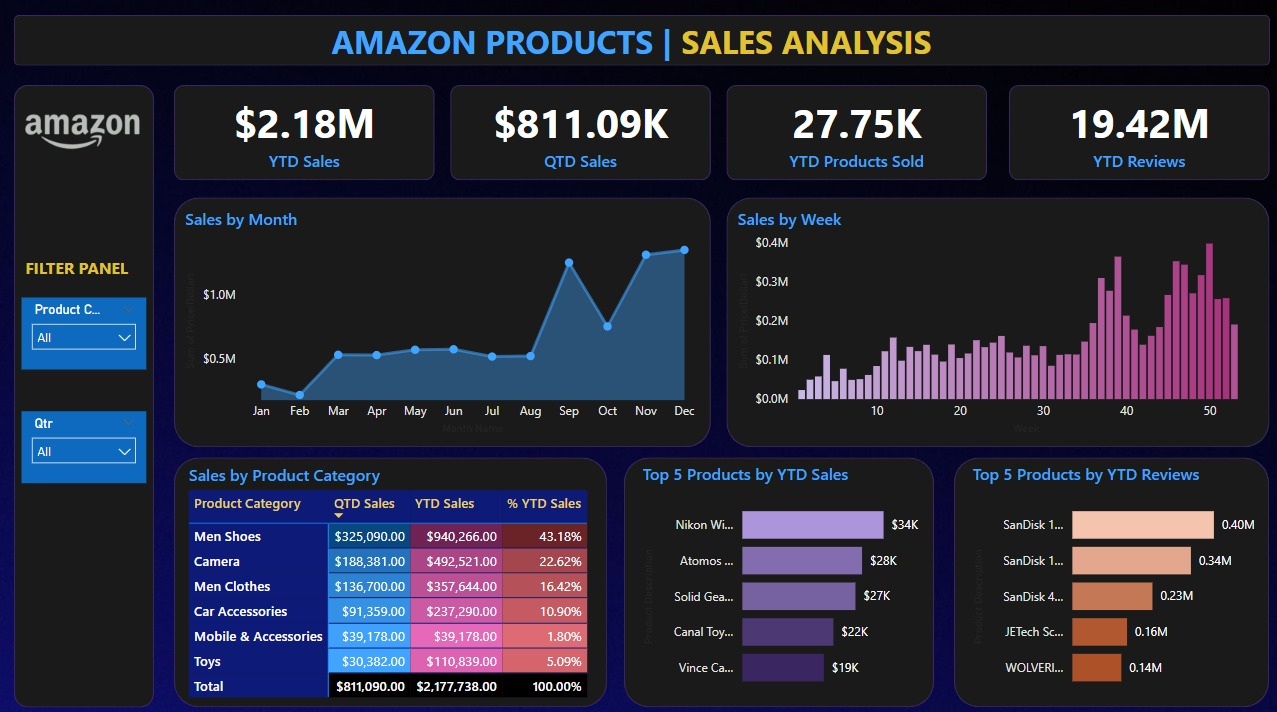

What the dashboard file says about the page in this screenshot:
{"tool":"powerbi","page":{"name":"Page 1","canvas":[1280,720],"ordinal":0},"visuals":[{"type":"shape","box":[14.5,14.5,1255.9,50.7],"z":0},{"type":"shape","box":[174.9,84.5,260.6,95.3],"z":1000},{"type":"textbox","box":[326.9,14.5,624.9,66.4],"z":2000},{"type":"shape","box":[14.5,84.5,139.9,622.5],"z":3000},{"type":"card","fields":{"Values":["Amazon_Data.YTD Sales"]},"box":[181,84.5,248.5,95.3],"z":4000},{"type":"shape","box":[451.2,84.5,260.6,95.3],"z":5000},{"type":"shape","box":[727.5,84.5,260.6,95.3],"z":6000},{"type":"shape","box":[1009.8,84.5,260.6,95.3],"z":7000},{"type":"shape","box":[174.9,197.9,536.9,249.7],"z":8000},{"type":"card","fields":{"Values":["Amazon_Data.QTD Sales"]},"box":[457.2,84.5,248.5,95.3],"z":9000},{"type":"card","fields":{"Values":["Amazon_Data.YTD Products Sold"]},"box":[733.5,84.5,248.5,95.3],"z":10000},{"type":"card","fields":{"Values":["Amazon_Data.YTD Reviews"]},"box":[1015.8,84.5,248.5,95.3],"z":11000},{"type":"areaChart","title":"Sales by Month","fields":{"Category":["Date Table.Month Name"],"Y":["Sum(Amazon_Data.Price(Dollar))"]},"box":[181,207.5,524.8,231.6],"z":12000},{"type":"shape","box":[727.5,197.9,542.9,249.7],"z":13000},{"type":"columnChart","title":"Sales by Week","fields":{"Category":["Date Table.Week"],"Y":["Sum(Amazon_Data.Price(Dollar))"]},"box":[733.5,207.5,530.8,231.6],"z":14000},{"type":"shape","box":[174.9,457.2,433.1,249.7],"z":15000},{"type":"pivotTable","title":"Sales by Product Category","fields":{"Rows":["Amazon_Data.Product Category"],"Values":["Amazon_Data.QTD Sales","Amazon_Data.YTD Sales1","Amazon_Data.YTD Sales"]},"box":[184.6,463.3,413.8,238.9],"z":16000},{"type":"shape","box":[624.9,457.2,310.1,249.7],"z":17000},{"type":"shape","box":[955.5,457.2,314.9,249.7],"z":18000},{"type":"clusteredBarChart","title":"Top 5 Products by YTD Sales","fields":{"Category":["Amazon_Data.Product Description"],"Y":["Amazon_Data.YTD Sales"]},"box":[639,463.1,296.1,239.3],"z":19000},{"type":"clusteredBarChart","title":"Top 5 Products by YTD Reviews","fields":{"Category":["Amazon_Data.Product Description"],"Y":["Amazon_Data.YTD Reviews"]},"box":[968.5,463.1,297.2,239.3],"z":20000},{"type":"slicer","fields":{"Values":["Amazon_Data.Product Category"]},"box":[22.3,297.2,124.7,72.4],"z":21000},{"type":"slicer","fields":{"Values":["Date Table.Qtr"]},"box":[22.3,410.8,124.7,72.4],"z":22000},{"type":"image","box":[14.5,65.1,139.9,139.9],"z":23000},{"type":"textbox","box":[21.7,250.9,139.9,32.6],"z":24000}]}

Visuals, with their boxes in screenshot pixels (x1, y1, x2, y2), scaled from the page's 1280x720 canvas onto the 1277x712 screenshot:
shape: region(14, 14, 1267, 64)
shape: region(174, 84, 434, 178)
textbox: region(326, 14, 950, 80)
shape: region(14, 84, 154, 699)
card - Amazon_Data.YTD Sales: region(181, 84, 428, 178)
shape: region(450, 84, 710, 178)
shape: region(726, 84, 986, 178)
shape: region(1007, 84, 1267, 178)
shape: region(174, 196, 710, 443)
card - Amazon_Data.QTD Sales: region(456, 84, 704, 178)
card - Amazon_Data.YTD Products Sold: region(732, 84, 980, 178)
card - Amazon_Data.YTD Reviews: region(1013, 84, 1261, 178)
"Sales by Month" areaChart: region(181, 205, 704, 434)
shape: region(726, 196, 1267, 443)
"Sales by Week" columnChart: region(732, 205, 1261, 434)
shape: region(174, 452, 607, 699)
"Sales by Product Category" pivotTable: region(184, 458, 597, 694)
shape: region(623, 452, 933, 699)
shape: region(953, 452, 1267, 699)
"Top 5 Products by YTD Sales" clusteredBarChart: region(638, 458, 933, 695)
"Top 5 Products by YTD Reviews" clusteredBarChart: region(966, 458, 1263, 695)
slicer - Amazon_Data.Product Category: region(22, 294, 147, 365)
slicer - Date Table.Qtr: region(22, 406, 147, 478)
image: region(14, 64, 154, 203)
textbox: region(22, 248, 161, 280)
